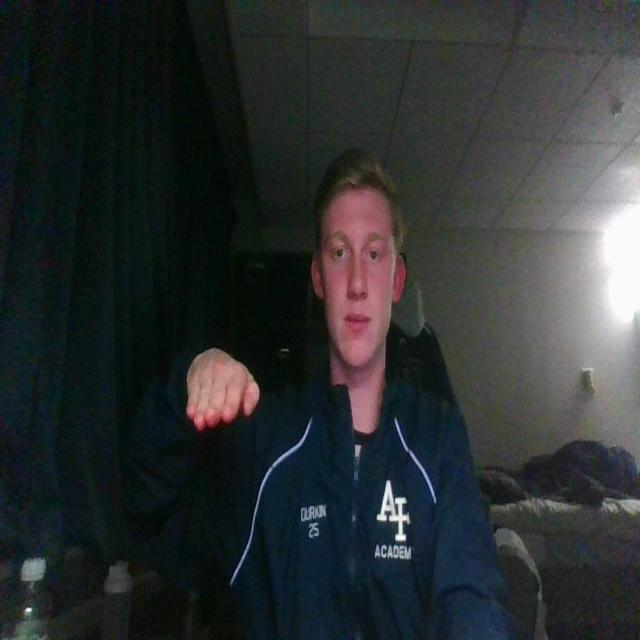paper: (181, 347, 265, 438)
